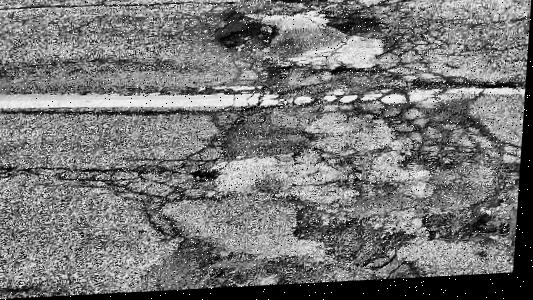pothole: (293, 219, 405, 273), (420, 200, 516, 249), (213, 15, 281, 57), (327, 16, 383, 44), (190, 169, 221, 186)
